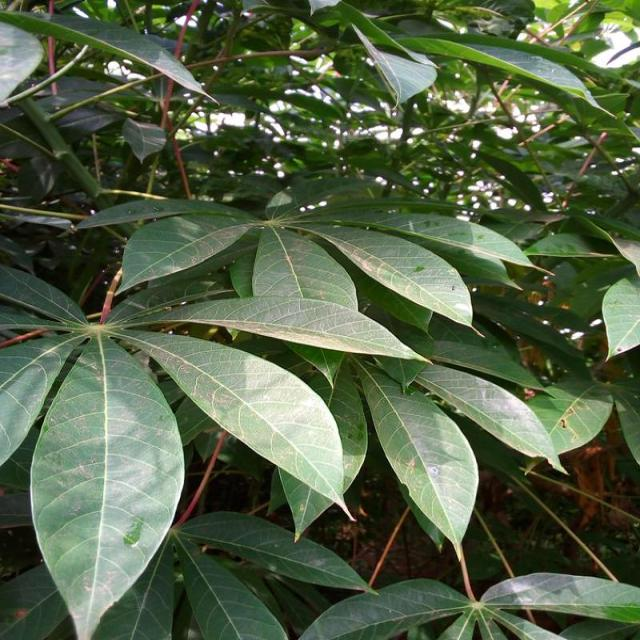cassava leaf: (110, 324, 356, 540), (29, 331, 185, 638), (353, 354, 478, 560)
